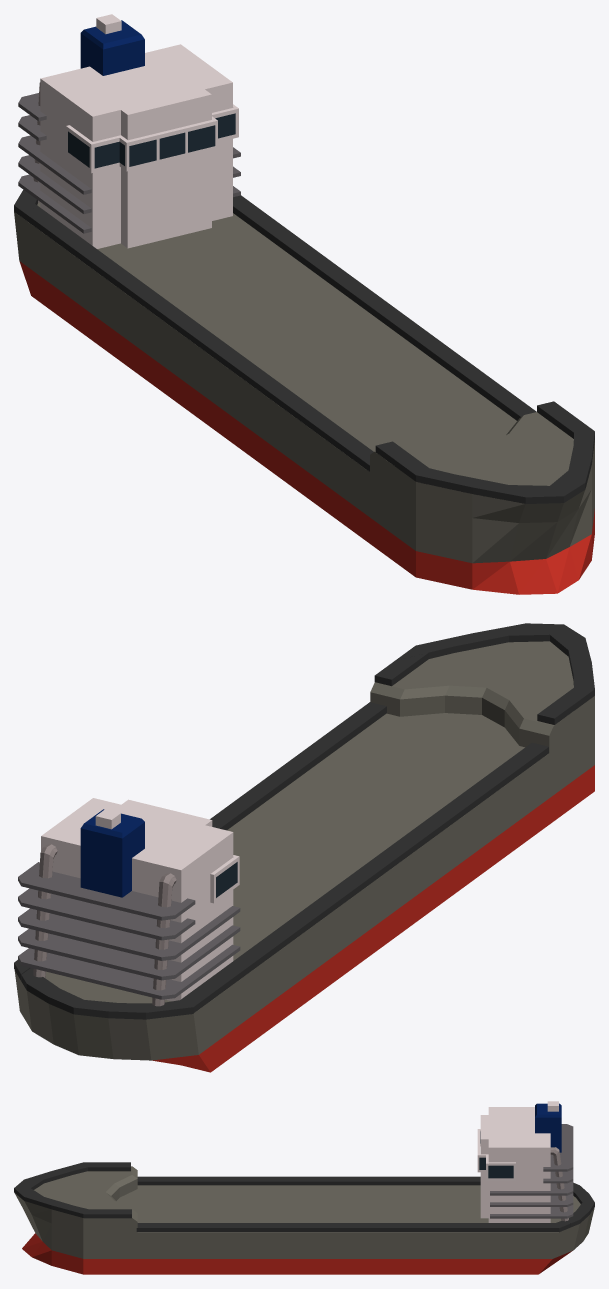
The model's file is Boat03.fbx.
The picture shows the model from 3 angles, top to bottom: view 1: azimuth 30°, elevation 25°; view 2: azimuth 150°, elevation 25°; view 3: azimuth 270°, elevation 25°; orthographic projection. The views are drawn at different scales.
Visible parts, largest first — view 1: Boat03; view 2: Boat03; view 3: Boat03.
Boxes of the visible parts, bbox=[...] form: Boat03: bbox=[14, 14, 594, 594]; Boat03: bbox=[14, 623, 594, 1072]; Boat03: bbox=[14, 1101, 594, 1274].
Bounding box in the file's own units: 73.12 × 346 × 95.44.
